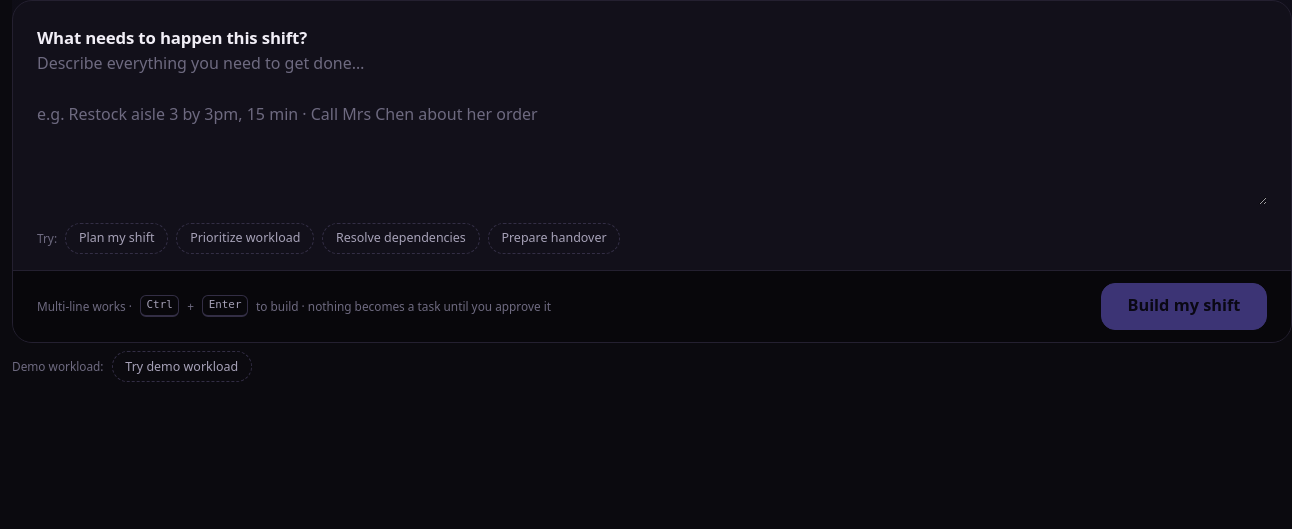
Test: IntakeView › phrases rate limits as capacity noise, never as a lost input
In the text box labelled "What needs to happen this shift?": (652, 128) [37,51,1267,205], type "Restock"
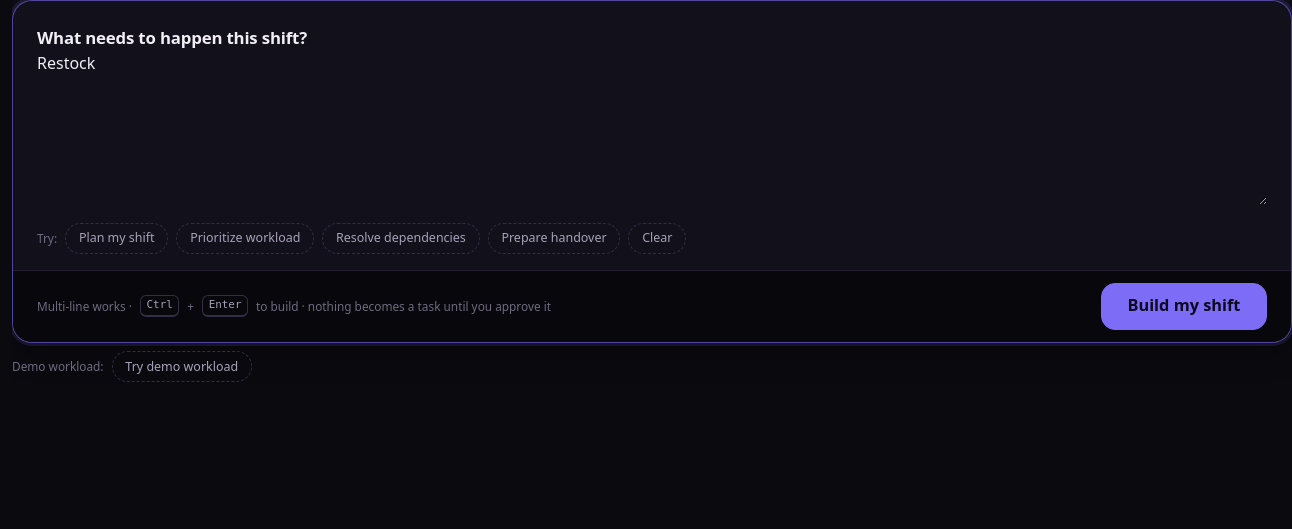
Click the button "Build my shift": click(1184, 306) [1101,282,1267,330]
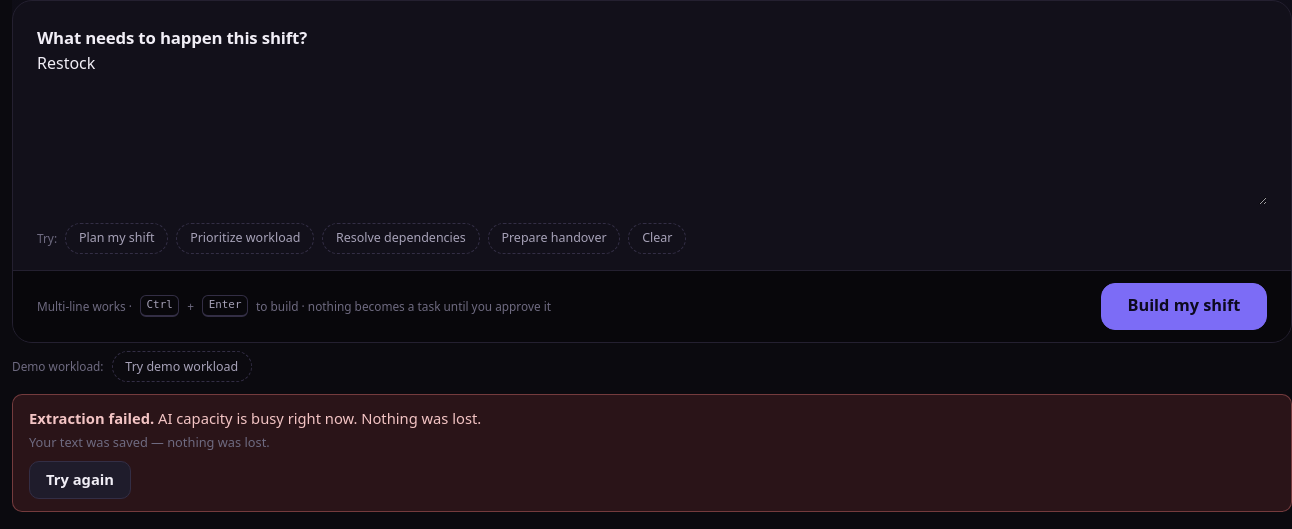
Now the message shows "AI capacity is busy right now. Nothing was lost.", box [158,408,481,428]
